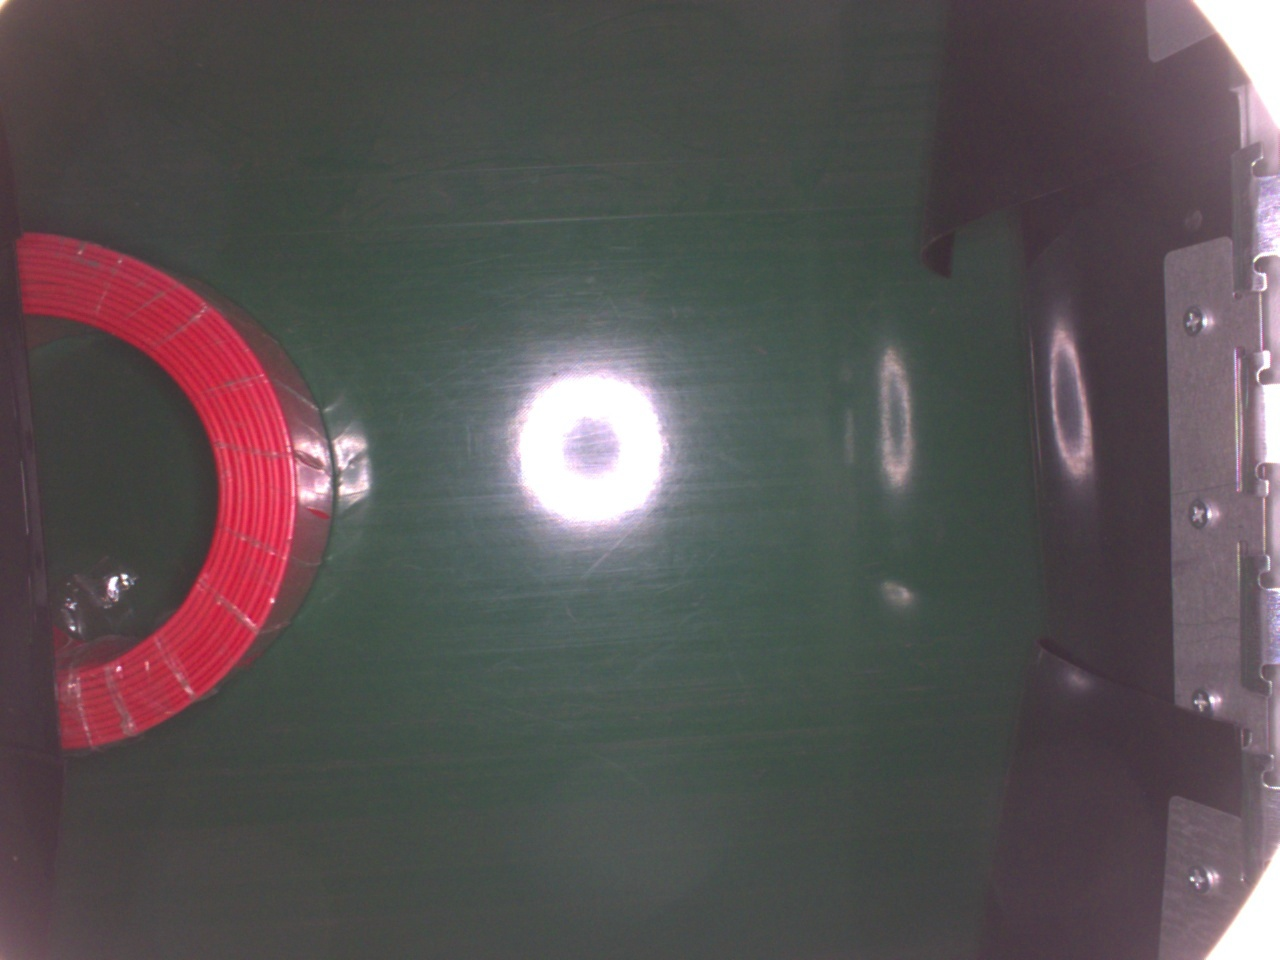red: (0, 227, 335, 762)
